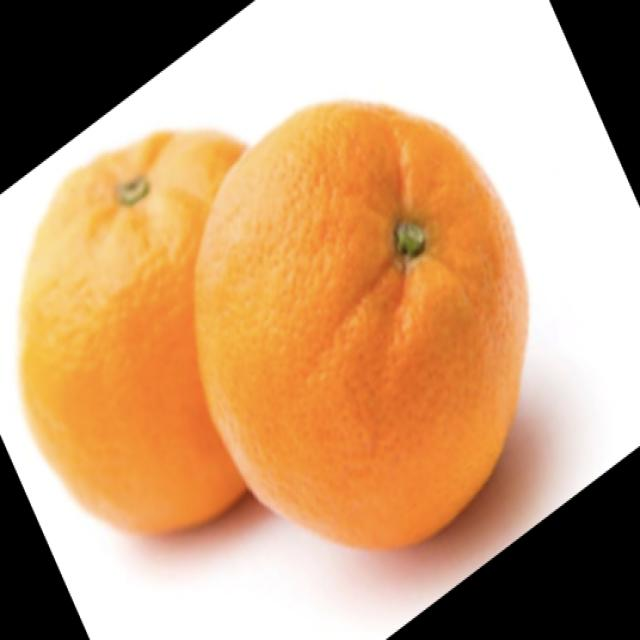fresh: (12, 84, 541, 581)
